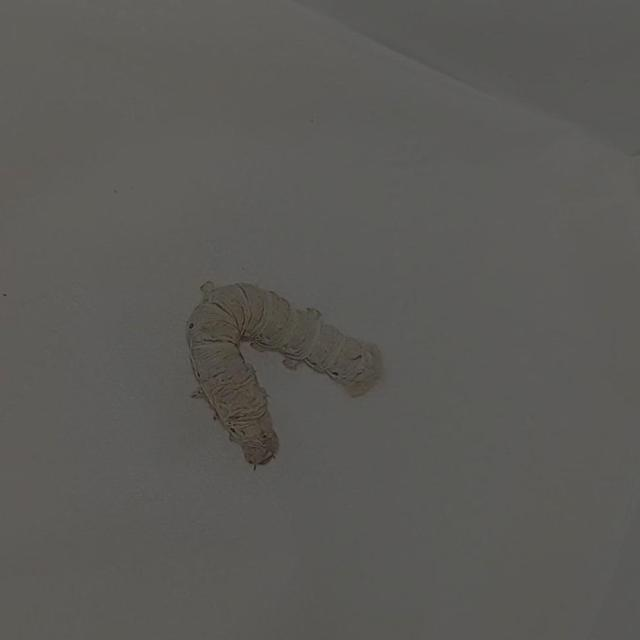Healthy: (153, 250, 402, 481)
